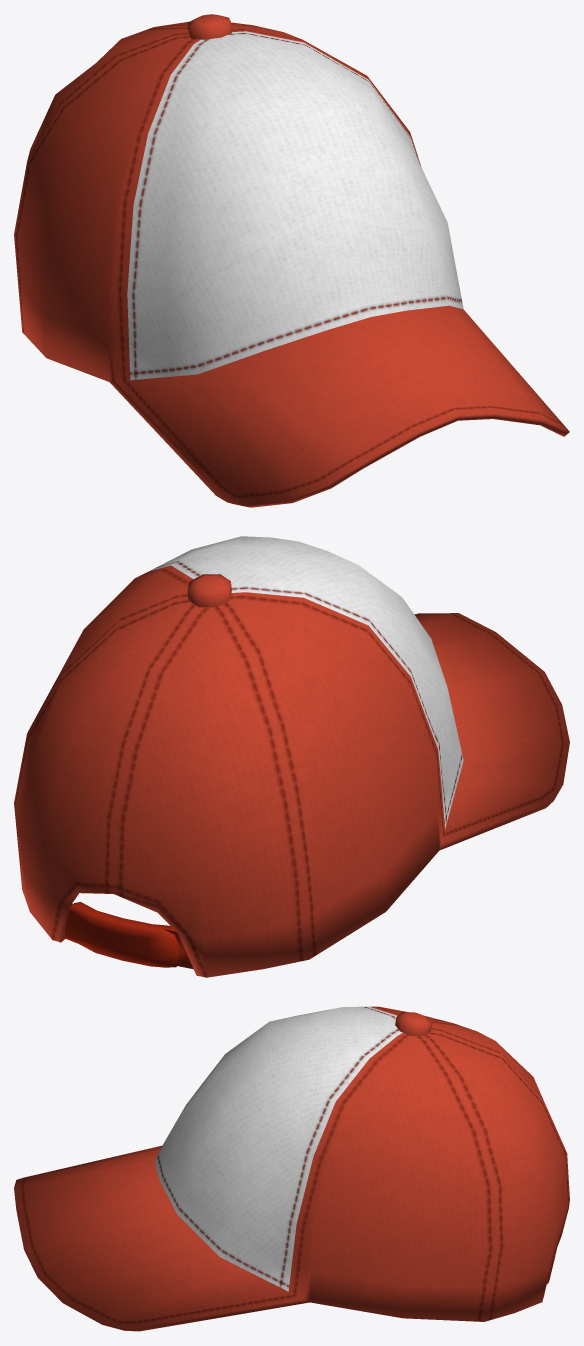
Rendered from Cap 1.fbx.
3 renders of one model, top to bottom at view 1: azimuth 30°, elevation 25°; view 2: azimuth 150°, elevation 25°; view 3: azimuth 270°, elevation 25°, orthographic. The views are drawn at different scales.
Visible parts, largest first — view 1: cap 1; view 2: cap 1; view 3: cap 1.
Part boxes in pixels (x1,y1,x2,y2): cap 1: (14, 14, 569, 507); cap 1: (14, 536, 569, 977); cap 1: (14, 1006, 569, 1331).
Bounding box in the file's own units: 16.69 × 15.05 × 29.49.
Materials: 1 (1 with a texture image).
